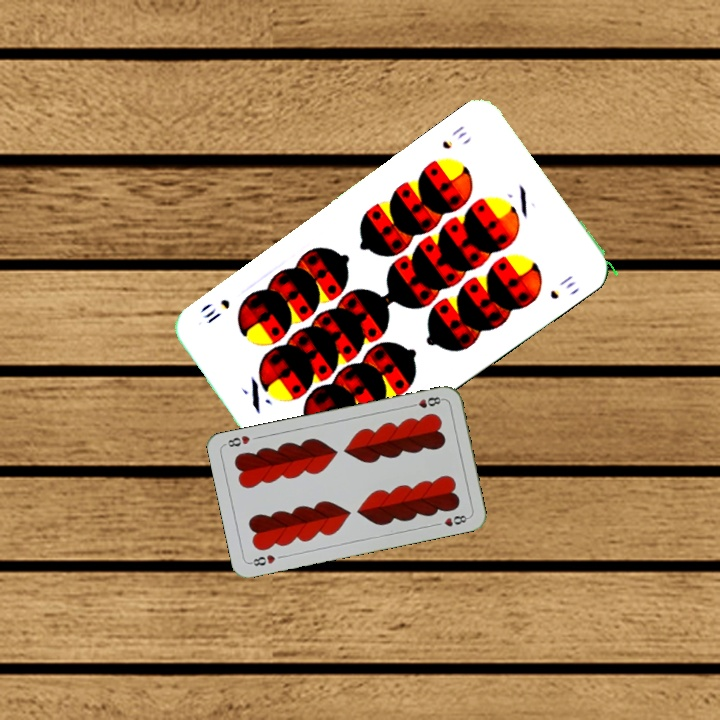H8: (406, 393, 446, 411), (246, 550, 278, 569)
S10: (437, 121, 470, 152)
